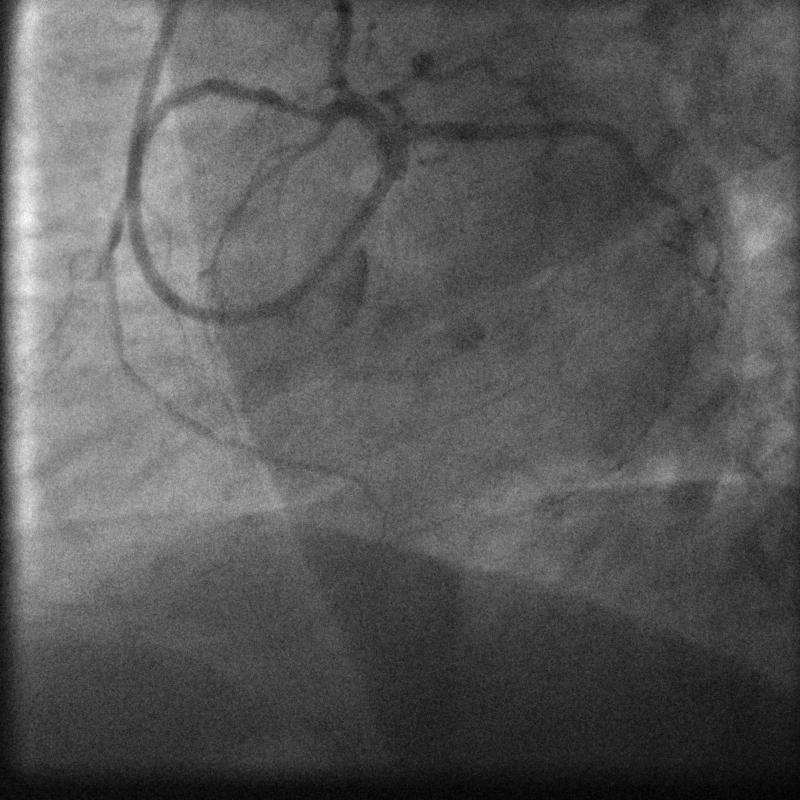Stenosis: (275, 85, 331, 126)
